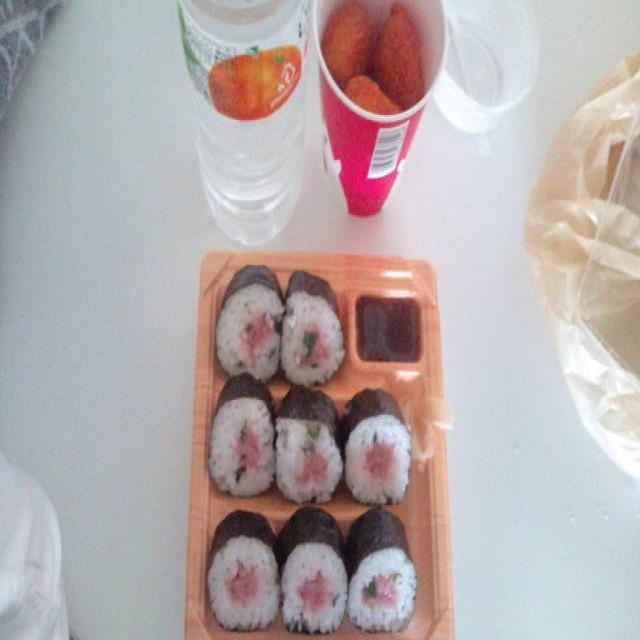Sushi: (204, 241, 424, 640)
